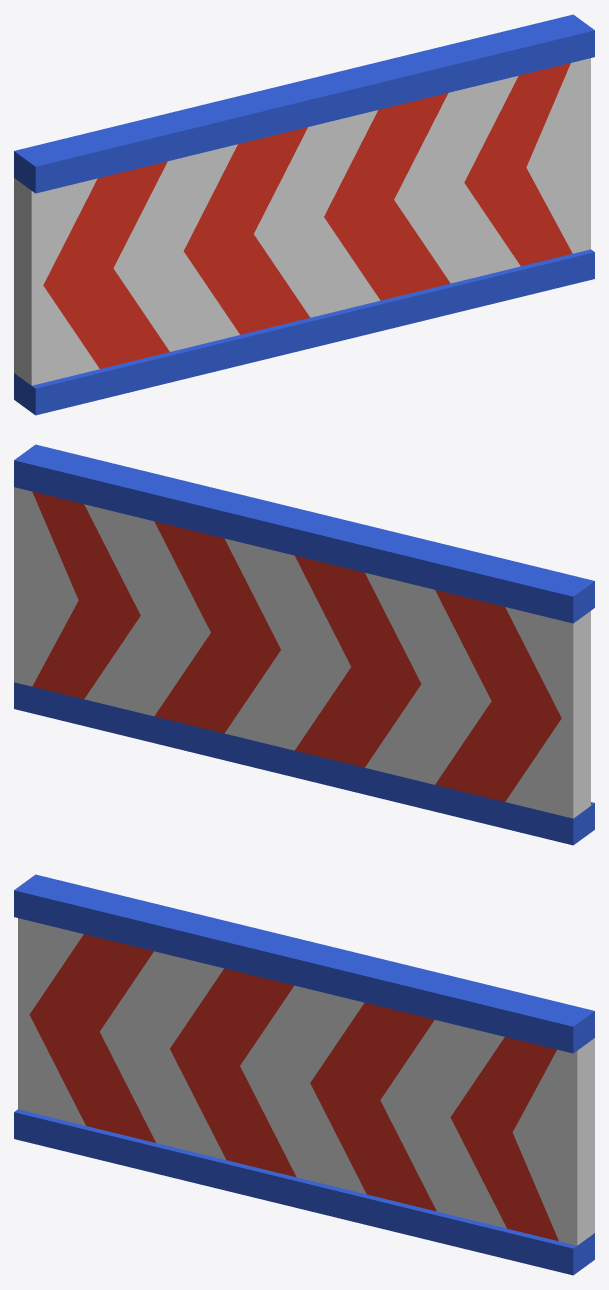
Rendered from Way3.fbx.
The picture shows the model from 3 angles, top to bottom: view 1: azimuth 30°, elevation 25°; view 2: azimuth 150°, elevation 25°; view 3: azimuth 330°, elevation 25°; orthographic projection.
Parts seen in each view (by area): view 1: Cube.008; view 2: Cube.008; view 3: Cube.008.
Boxes of the visible parts, left/top/right/bottom form: Cube.008: left=14, top=14, right=594, bottom=415; Cube.008: left=14, top=444, right=594, bottom=845; Cube.008: left=14, top=874, right=594, bottom=1275.
Size of the model in its own units: 600 by 255 by 40.13.
